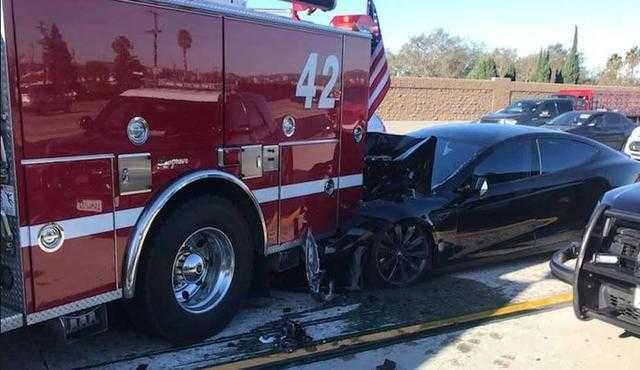Fire Truck: (3, 0, 381, 321)
